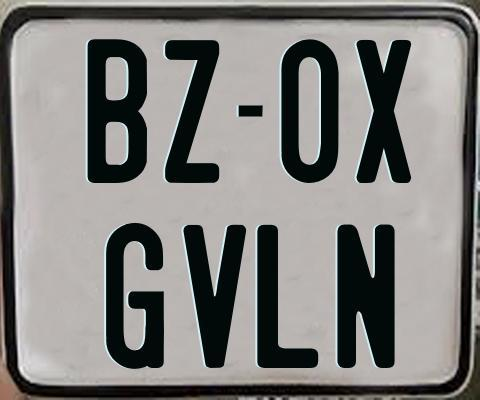0: (280, 38, 343, 188)
B: (86, 36, 147, 182)
G: (105, 220, 169, 371)
L: (255, 225, 321, 371)
N: (334, 223, 395, 370)
V: (182, 223, 245, 368)
X: (355, 38, 413, 184)
Z: (164, 38, 224, 187)
